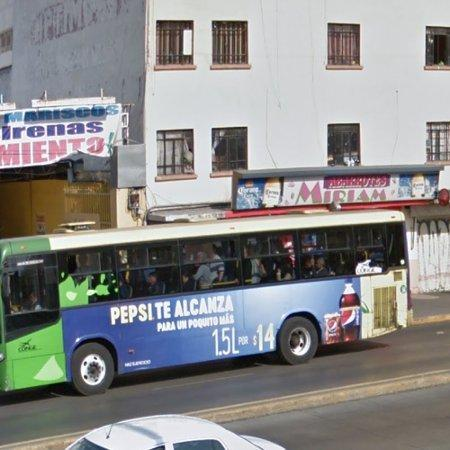buses: (0, 211, 409, 395)
